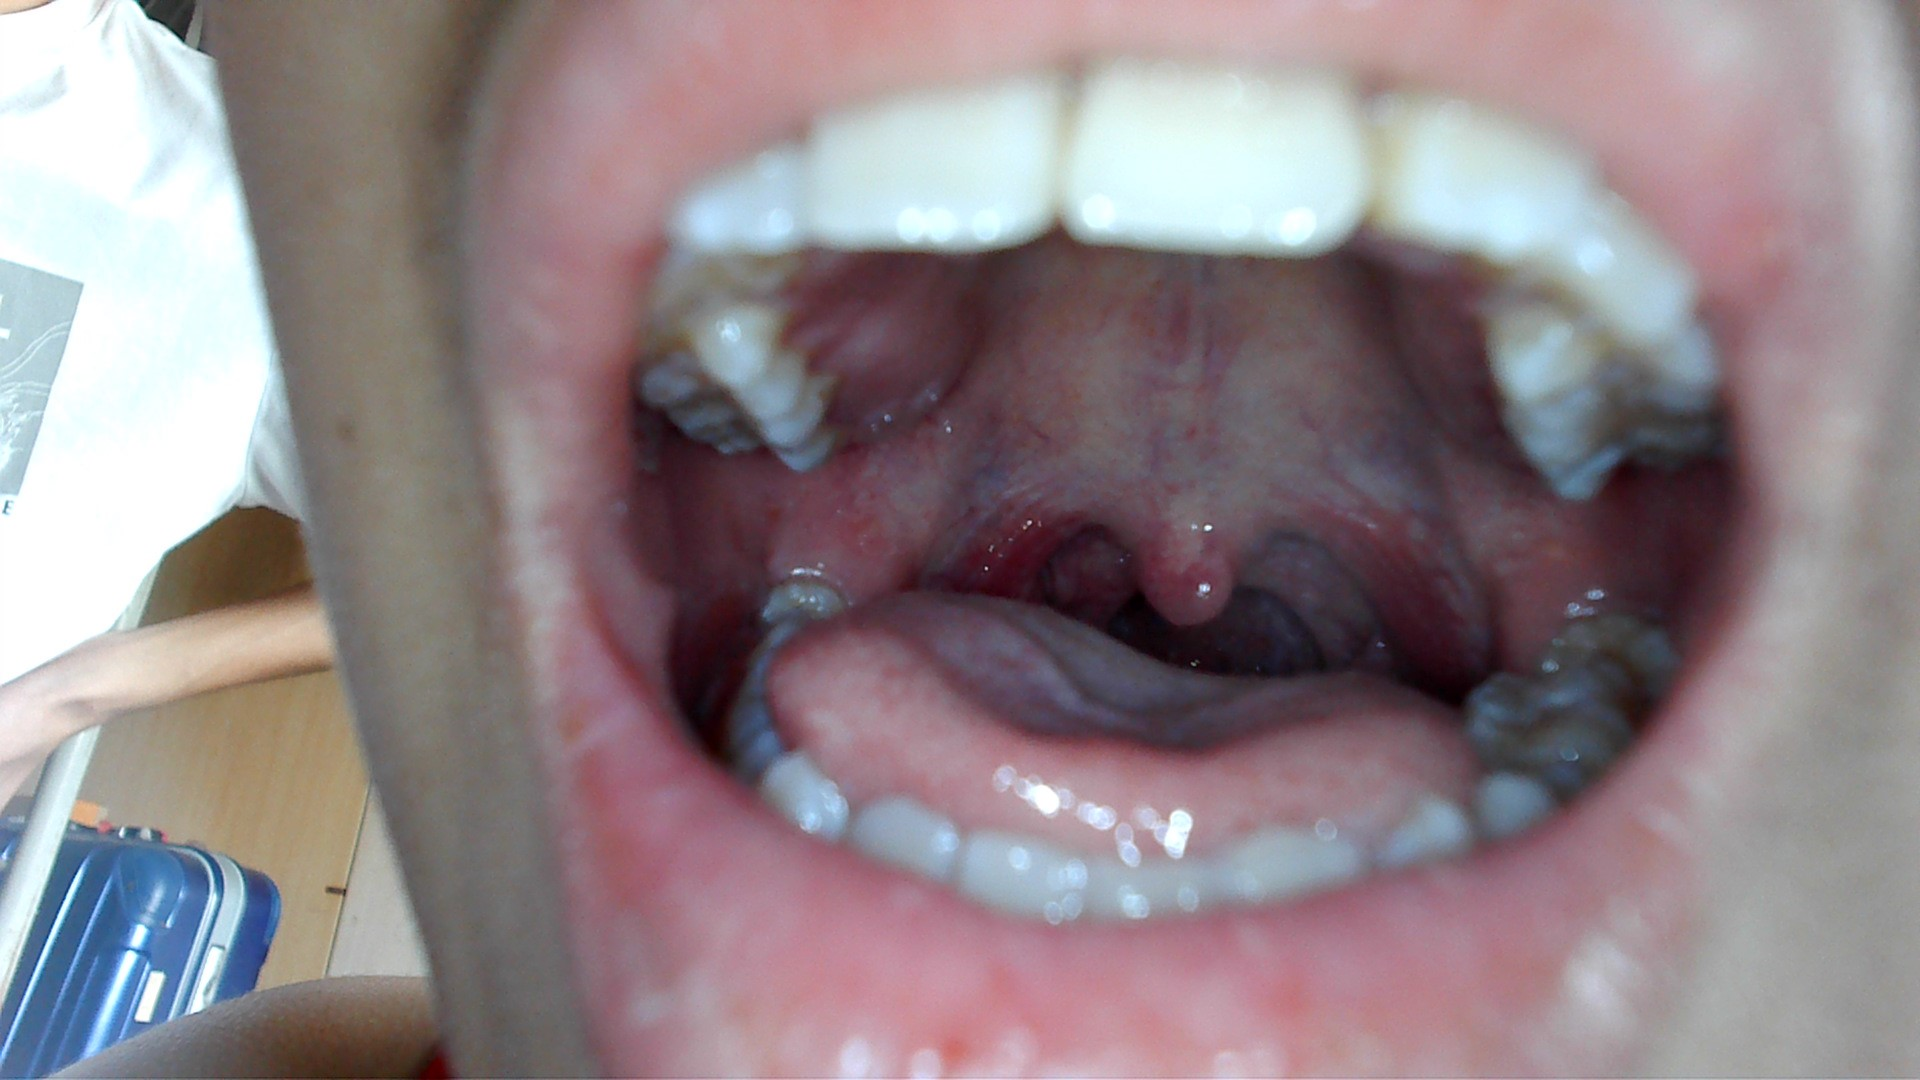throat: (1305, 484, 1462, 659), (934, 460, 1077, 588)
